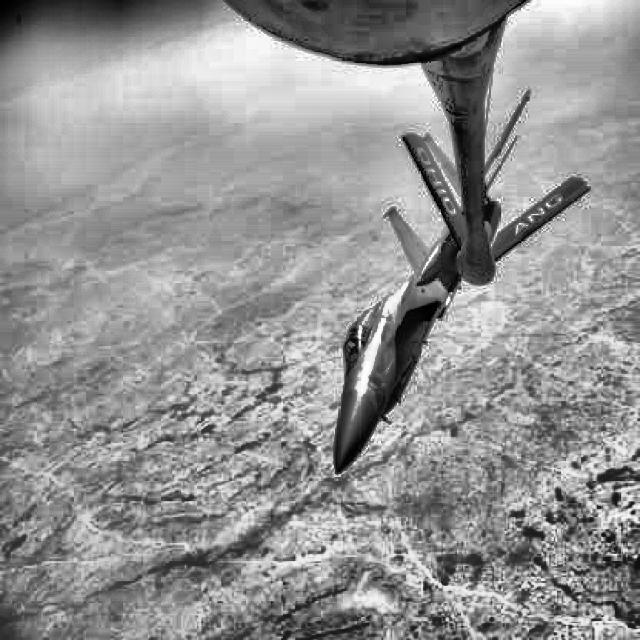F15: (335, 90, 530, 476)
